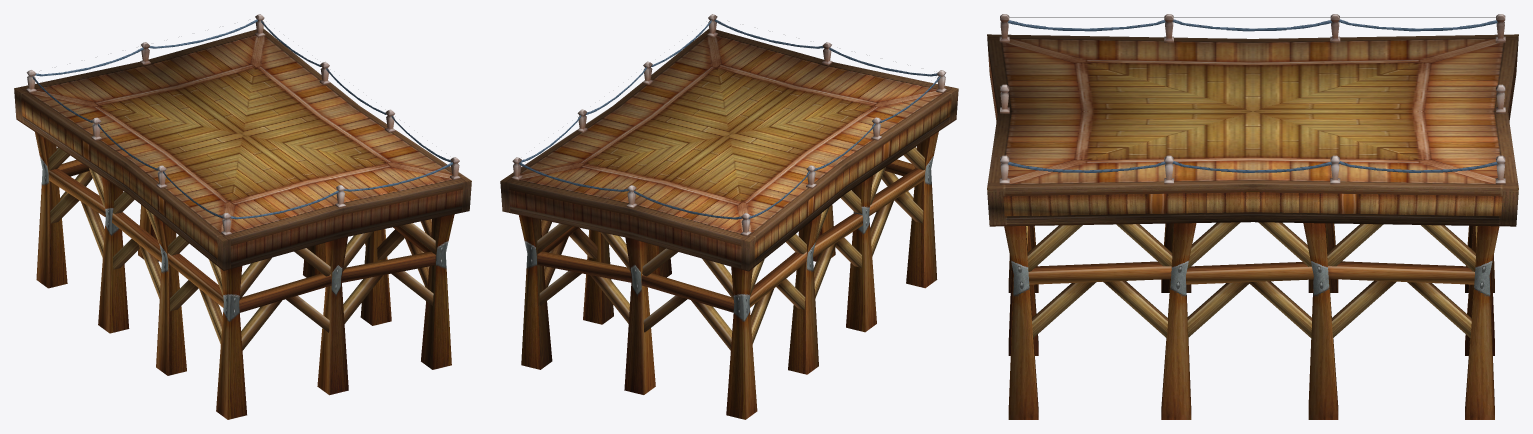
The model's file is obj_masaprsupport01.glb.
3 views of the same model, side by side, from view 1: azimuth 30°, elevation 25°; view 2: azimuth 150°, elevation 25°; view 3: azimuth 270°, elevation 25° (orthographic). The views are drawn at different scales.
Parts seen in each view (by area): view 1: part_0; view 2: part_0; view 3: part_0.
Boxes of the visible parts, x1,y1,x2,y2 form: part_0: (14,14,471,419); part_0: (500,14,958,419); part_0: (987,14,1518,419).
Bounding box in the file's own units: 15.76 × 12.62 × 23.
2 materials, 2 textured.
